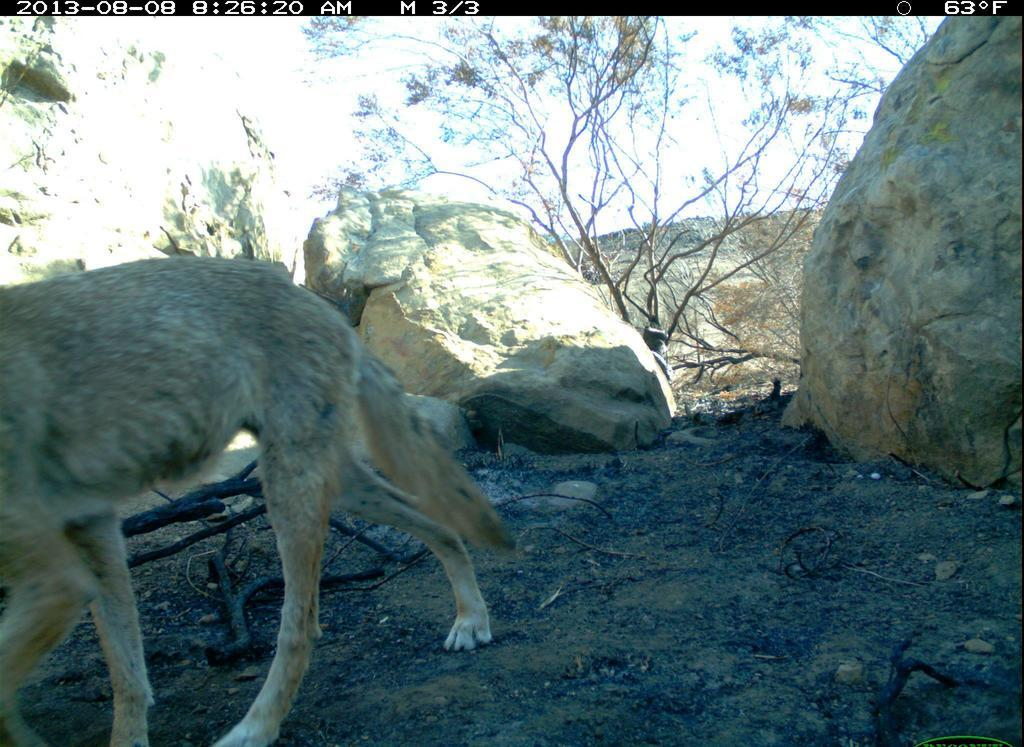coyote: (2, 253, 527, 740)
